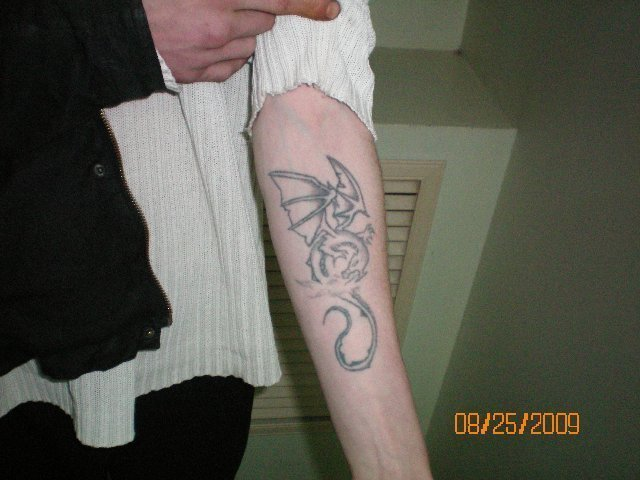tatu6_drakon: (254, 145, 403, 382)
